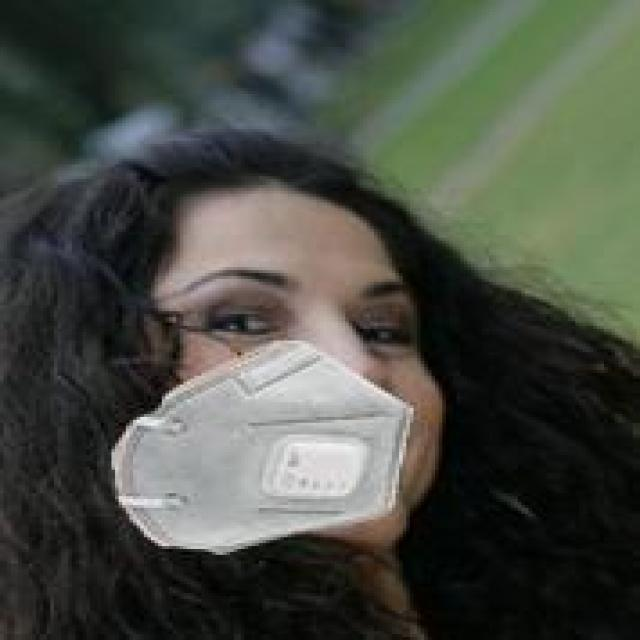mask: (50, 91, 507, 584)
